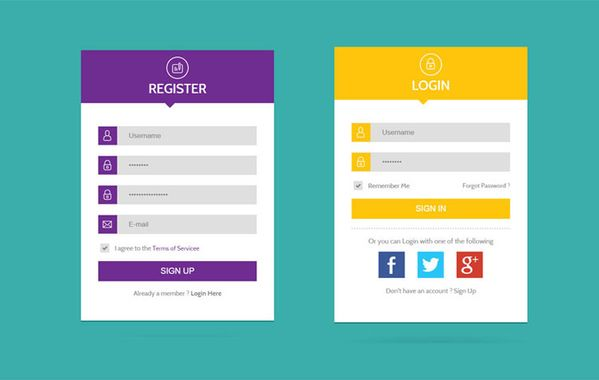_form_: (306, 7, 537, 364), (58, 1, 289, 357)
button: (96, 260, 260, 283), (350, 197, 511, 220)
checkbox: (353, 180, 363, 192), (99, 244, 112, 253)
checkbox_with_label: (96, 242, 201, 254), (350, 178, 410, 194)
field: (115, 213, 260, 236), (115, 125, 258, 148), (368, 121, 510, 144), (114, 155, 261, 177), (115, 184, 257, 206), (369, 151, 511, 173)
